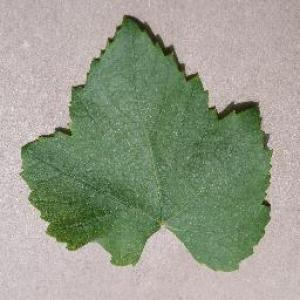Folha: (19, 13, 273, 272)
